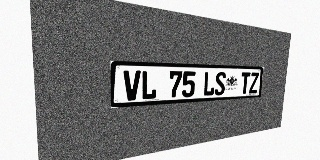5: (182, 71, 196, 97)
7: (168, 71, 183, 98)
L: (141, 70, 157, 100), (203, 71, 215, 96)
S: (214, 72, 226, 96)
T: (240, 72, 250, 94)
V: (123, 70, 141, 101)
Z: (249, 72, 259, 93)
